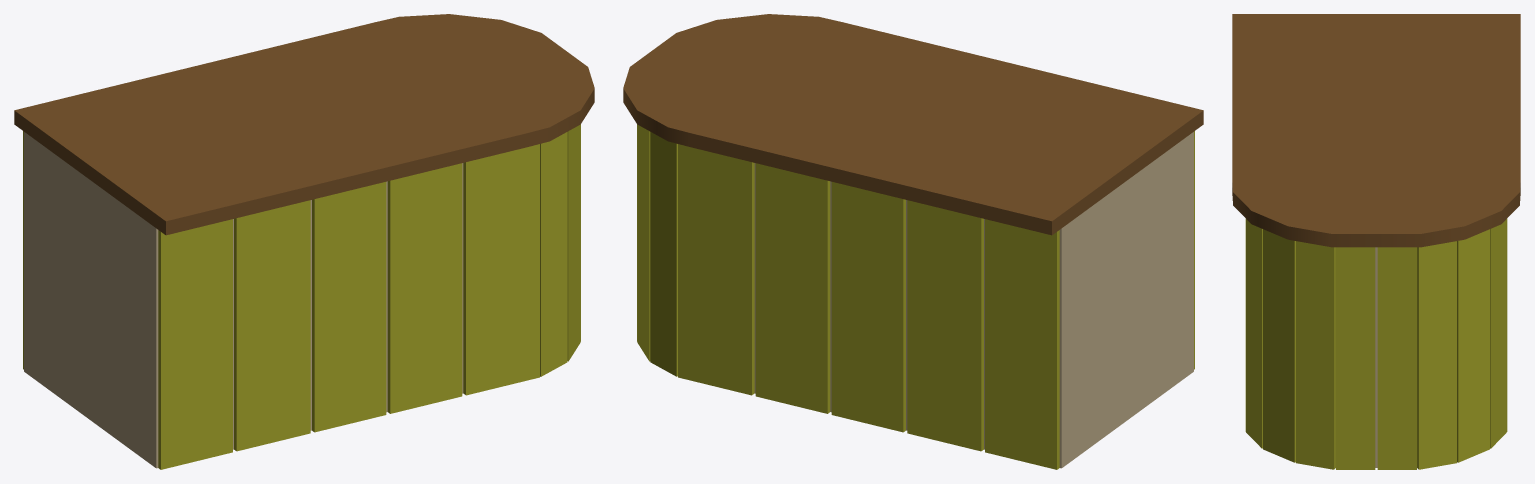
Rendered from Bar_End.fbx.
3 renders of one model, left to right at view 1: azimuth 30°, elevation 25°; view 2: azimuth 150°, elevation 25°; view 3: azimuth 270°, elevation 25°, orthographic. The views are drawn at different scales.
Visible parts, largest first — view 1: polySurface7150; view 2: polySurface7150; view 3: polySurface7150.
Boxes of the visible parts, bbox=[...] form: polySurface7150: bbox=[14, 14, 594, 469]; polySurface7150: bbox=[623, 14, 1203, 469]; polySurface7150: bbox=[1232, 14, 1520, 469].
Bounding box in the file's own units: 2.07 × 1.06 × 1.15.
